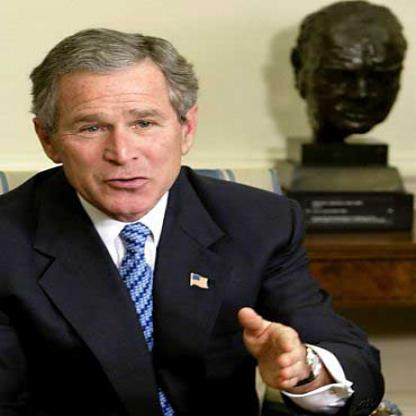face: (55, 44, 185, 218)
